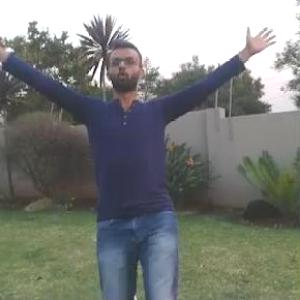takeoff: (1, 25, 290, 299)
